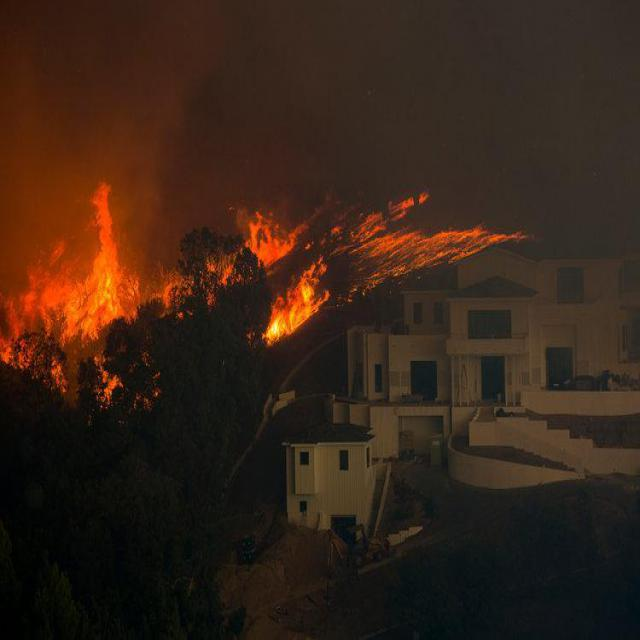Fire: (1, 138, 491, 420)
Smoke: (5, 8, 627, 130)
